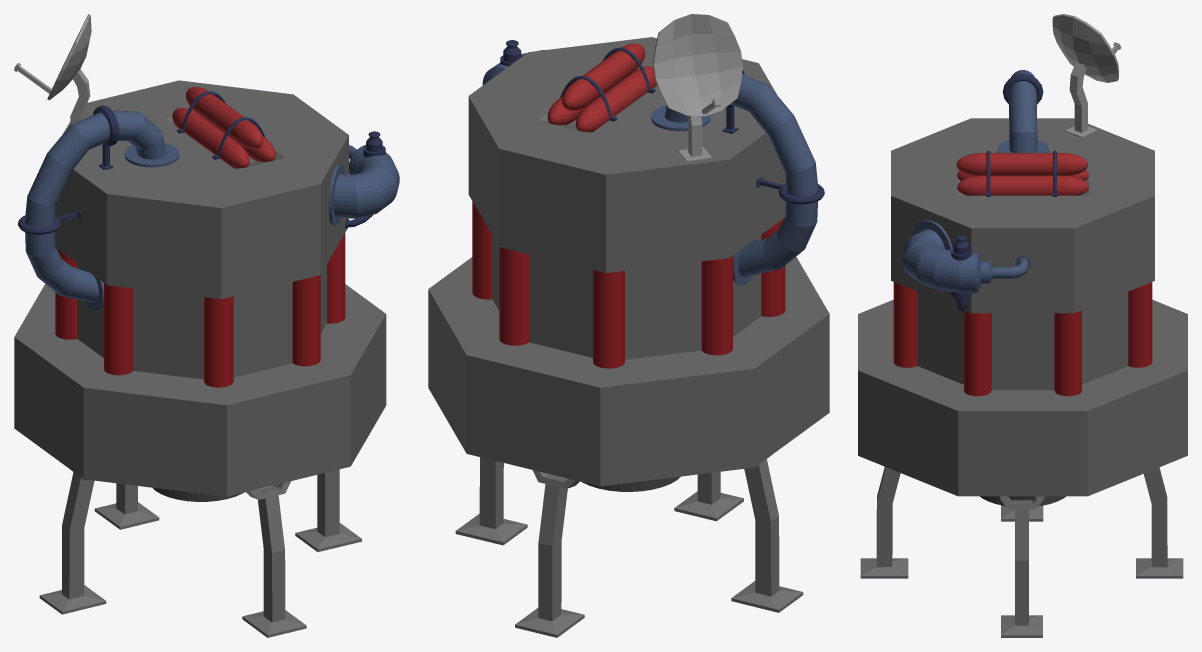
File: moon_lander.fbx
The picture shows the model from 3 angles, left to right: view 1: azimuth 30°, elevation 25°; view 2: azimuth 150°, elevation 25°; view 3: azimuth 270°, elevation 25°; orthographic projection. The views are drawn at different scales.
Parts seen in each view (by area): view 1: Ship_body, Ship_details, Landing_parts, Tubes, Propulsion_exhaust; view 2: Ship_body, Ship_details, Landing_parts, Tubes, Propulsion_exhaust; view 3: Ship_body, Ship_details, Tubes, Landing_parts.
Boxes of the visible parts, left/top/right/bottom form: Ship_body: left=14, top=80, right=386, bottom=496; Ship_details: left=14, top=14, right=399, bottom=310; Landing_parts: left=39, top=469, right=361, bottom=637; Tubes: left=55, top=233, right=345, bottom=387; Propulsion_exhaust: left=152, top=487, right=243, bottom=501; Ship_body: left=428, top=37, right=829, bottom=486; Ship_details: left=482, top=14, right=824, bottom=285; Landing_parts: left=455, top=457, right=803, bottom=637; Tubes: left=472, top=201, right=785, bottom=368; Propulsion_exhaust: left=582, top=476, right=680, bottom=491; Ship_body: left=858, top=118, right=1187, bottom=496; Ship_details: left=903, top=14, right=1121, bottom=312; Tubes: left=893, top=282, right=1152, bottom=396; Landing_parts: left=860, top=467, right=1183, bottom=637.
Bounding box in the file's own units: 2.26 × 3.51 × 2.04.
